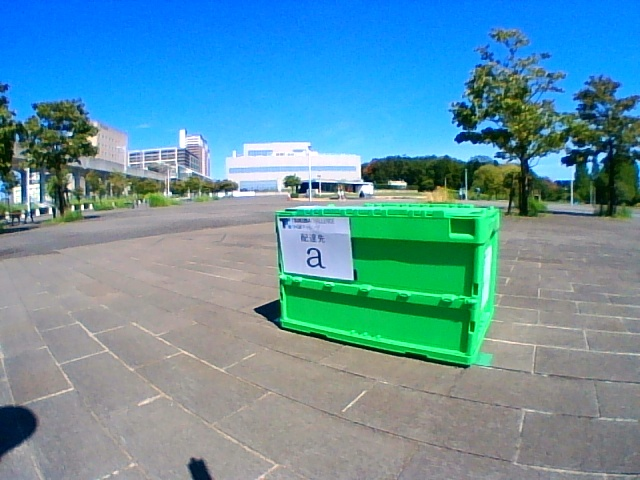green_box: (276, 204, 498, 365)
tag_a: (282, 218, 350, 273)
